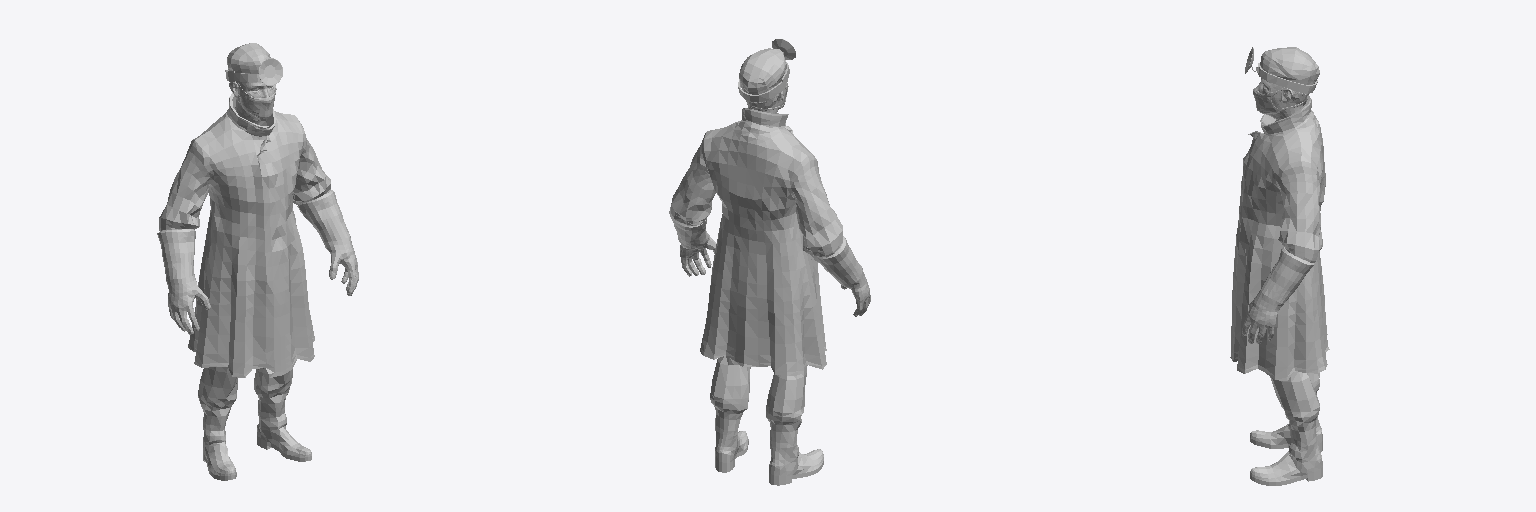
The model's file is Dr_Suchong.obj.
3 views of the same model, side by side, from view 1: azimuth 30°, elevation 25°; view 2: azimuth 150°, elevation 25°; view 3: azimuth 270°, elevation 25° (orthographic).
Visible parts, largest first — view 1: 24_body_1_0_0, 24_head_1_0_0; view 2: 24_body_1_0_0, 24_head_1_0_0; view 3: 24_body_1_0_0, 24_head_1_0_0.
Part boxes in pixels (left/top/right/bottom): 24_body_1_0_0: left=157, top=92, right=358, bottom=480; 24_head_1_0_0: left=225, top=43, right=282, bottom=124; 24_body_1_0_0: left=669, top=108, right=870, bottom=485; 24_head_1_0_0: left=738, top=39, right=795, bottom=113; 24_body_1_0_0: left=1230, top=95, right=1329, bottom=485; 24_head_1_0_0: left=1245, top=47, right=1319, bottom=120.
Bounding box in the file's own units: 0.9178 × 1.97 × 0.4269.